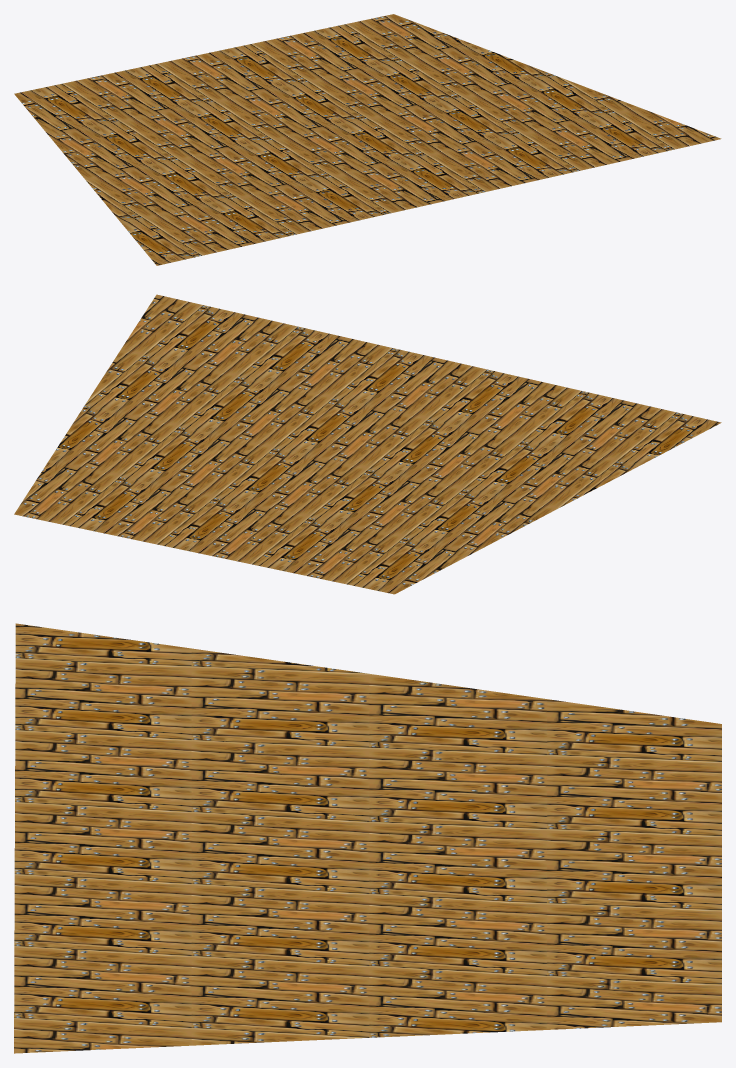
File: Schiff_BugPlattform2_1278.glb
The picture shows the model from 3 angles, top to bottom: view 1: azimuth 30°, elevation 25°; view 2: azimuth 150°, elevation 25°; view 3: azimuth 270°, elevation 25°; orthographic projection. The views are drawn at different scales.
Parts seen in each view (by area): view 1: ship_plattform_bugShape; view 2: ship_plattform_bugShape; view 3: ship_plattform_bugShape.
Boxes of the visible parts, x1,y1,x2,y2 form: ship_plattform_bugShape: (14,14,721,265); ship_plattform_bugShape: (14,294,721,594); ship_plattform_bugShape: (14,623,721,1053).
Size of the model in its own units: 1.81 by 0.1072 by 1.31.
1 material, 1 textured.
